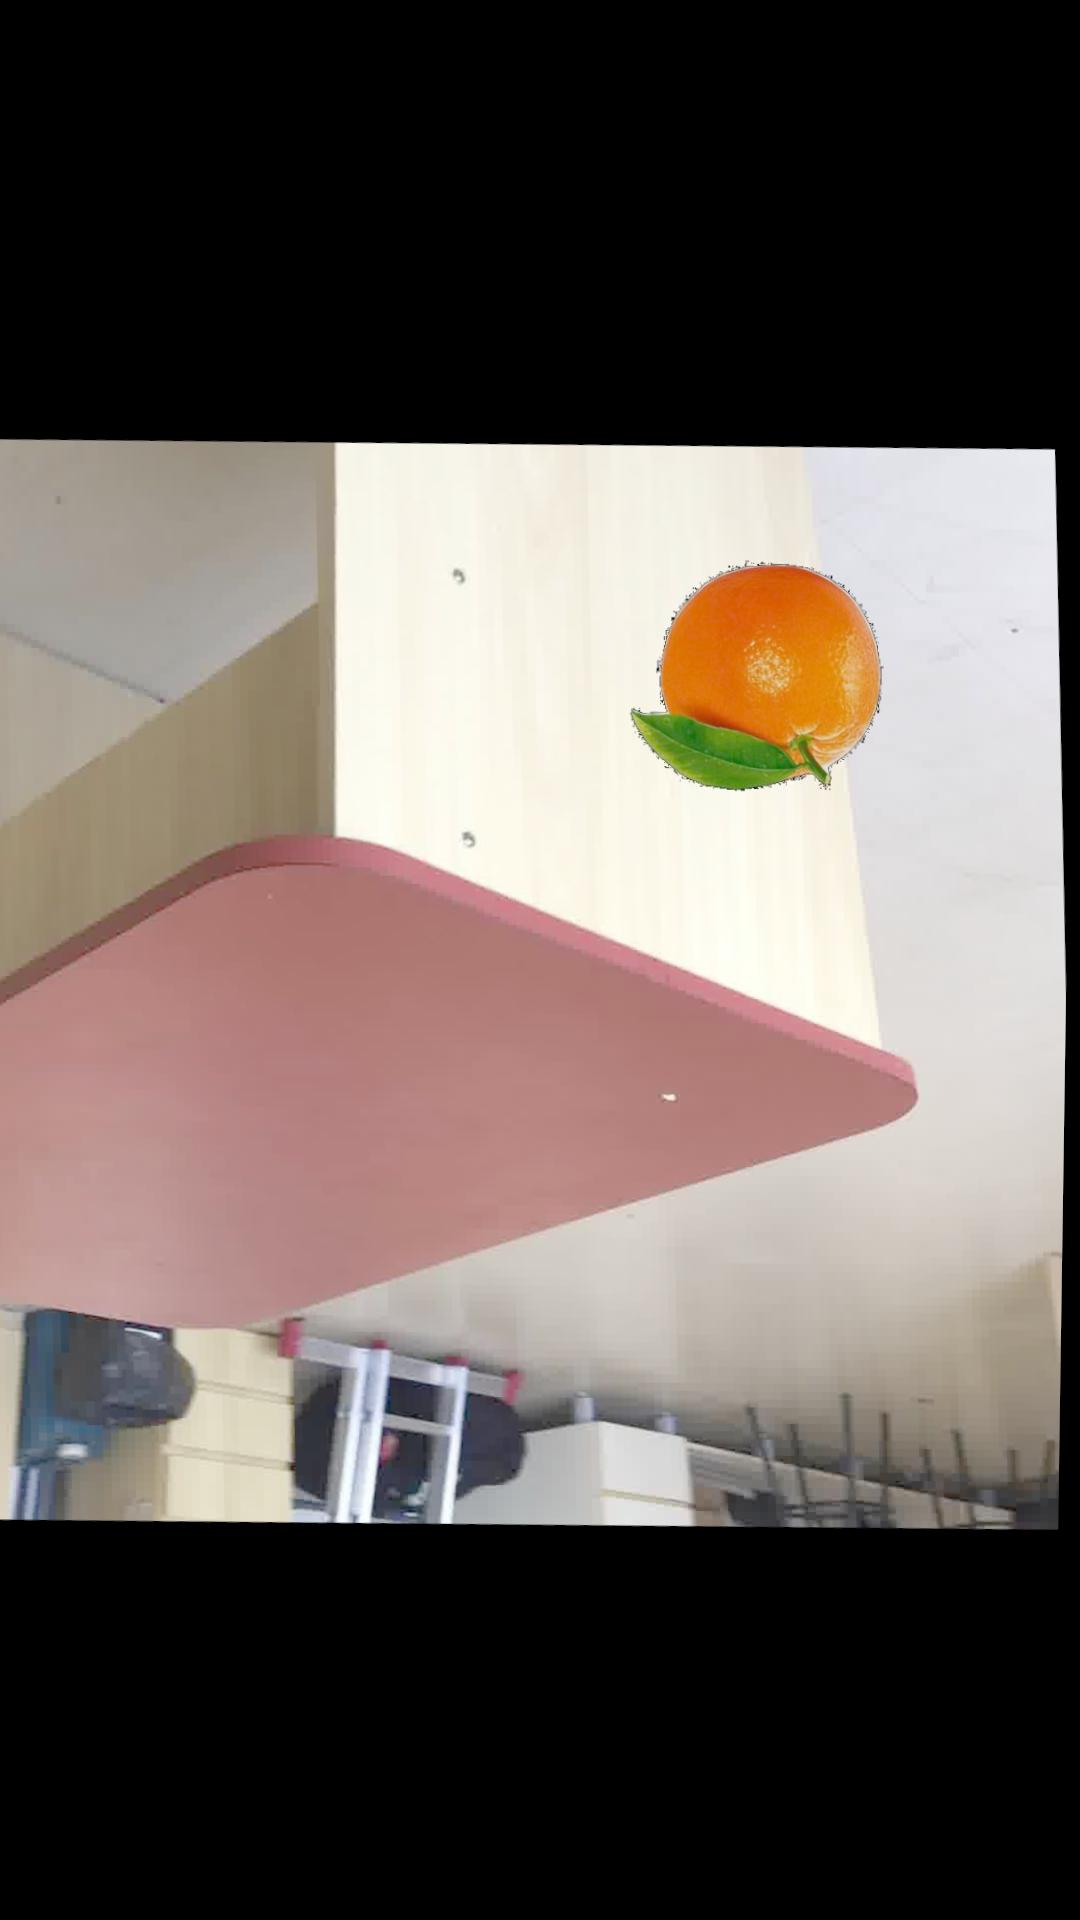orange: (634, 553, 886, 781)
